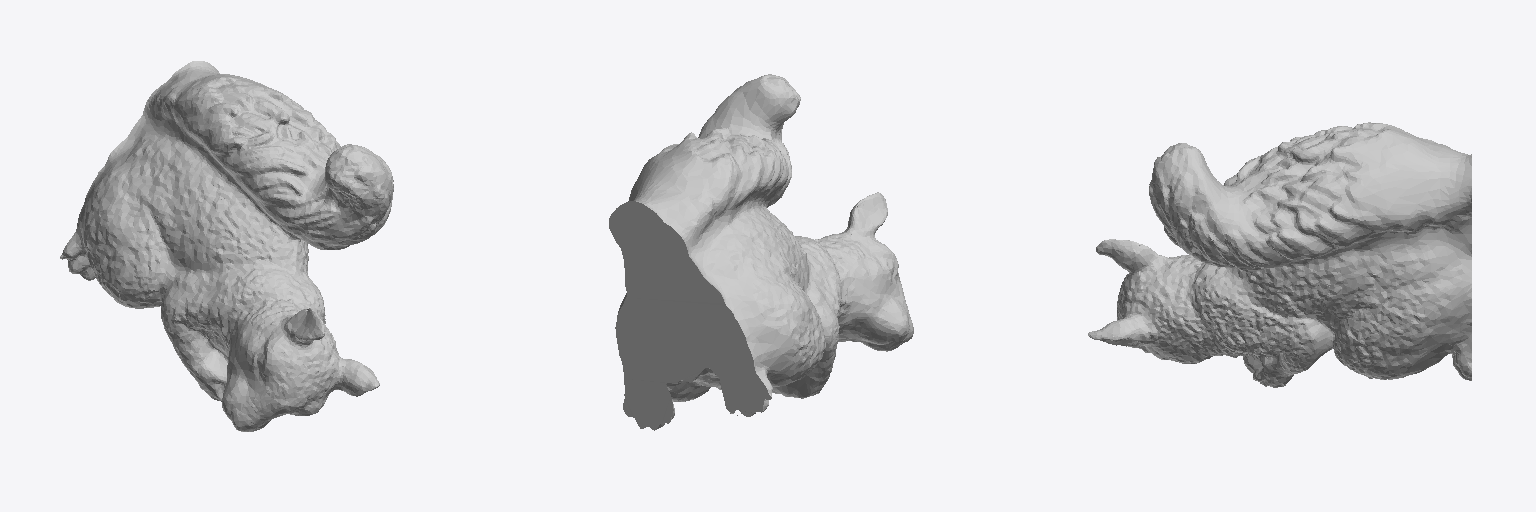
Rendered from squirrel.obj.
The picture shows the model from 3 angles: view 1: azimuth 30°, elevation 25°; view 2: azimuth 150°, elevation 25°; view 3: azimuth 270°, elevation 25°; orthographic projection.
Parts seen in each view (by area): view 1: Squirel; view 2: Squirel; view 3: Squirel.
Part boxes in pixels (x1,y1,x2,y2): Squirel: (60,61,393,431); Squirel: (609,74,913,430); Squirel: (1088,122,1471,387).
Bounding box in the file's own units: 5.97 × 7.61 × 9.79.